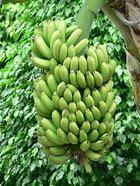banana: (27, 22, 118, 168)
